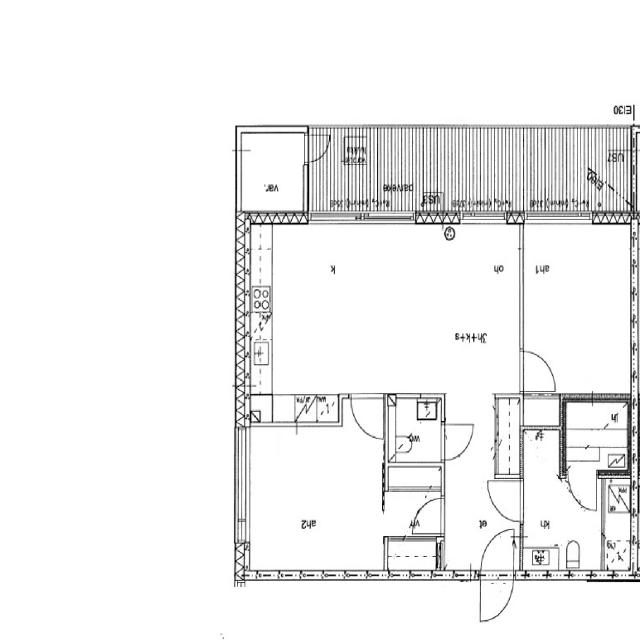door: (475, 522, 517, 624), (346, 388, 389, 446), (482, 471, 528, 525), (518, 344, 560, 396), (562, 461, 600, 516), (406, 492, 444, 540), (437, 416, 476, 462), (305, 129, 333, 166)
window: (228, 424, 256, 548), (523, 210, 593, 228), (458, 212, 509, 226), (562, 571, 591, 584)
zone: (248, 219, 525, 394), (238, 418, 390, 584), (518, 220, 632, 400), (520, 428, 600, 574), (384, 393, 444, 515), (237, 126, 308, 221), (562, 398, 632, 472), (597, 469, 636, 578), (383, 534, 440, 579), (492, 396, 522, 474), (523, 210, 592, 230)
